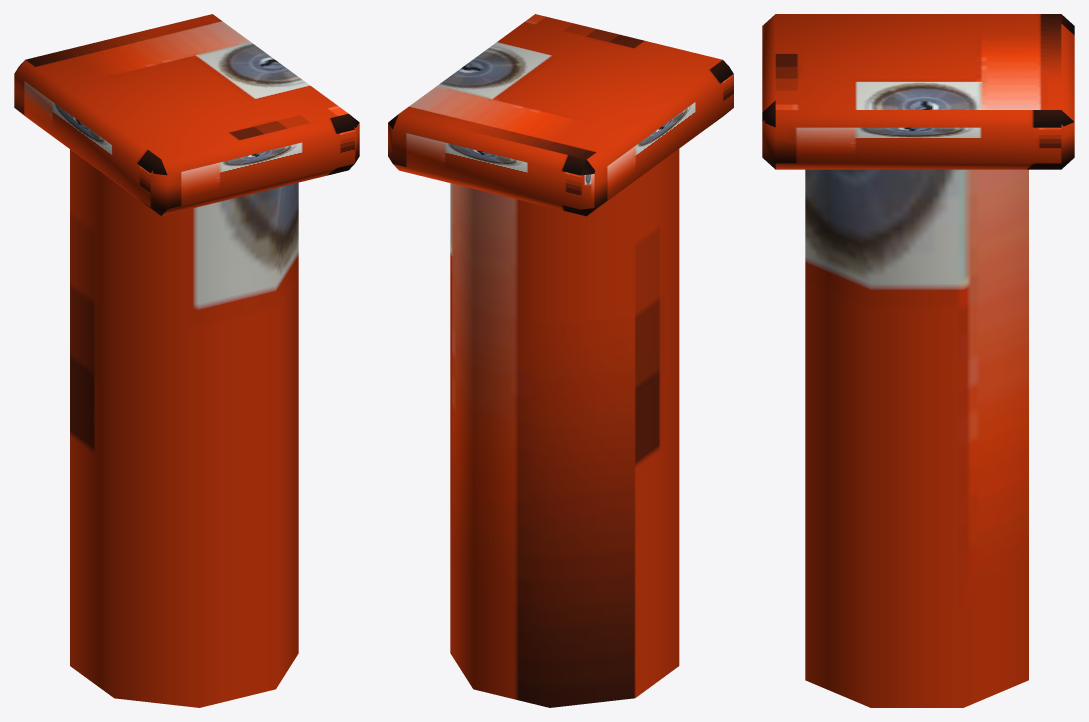
The picture shows the model from 3 angles, left to right: view 1: azimuth 30°, elevation 25°; view 2: azimuth 150°, elevation 25°; view 3: azimuth 270°, elevation 25°; orthographic projection. The views are drawn at different scales.
Visible parts, largest first — view 1: Joint_0_Object_0; view 2: Joint_0_Object_0; view 3: Joint_0_Object_0.
Part boxes in pixels (x1,y1,x2,y2): Joint_0_Object_0: [14, 14, 359, 707]; Joint_0_Object_0: [388, 14, 733, 707]; Joint_0_Object_0: [762, 14, 1074, 707].
Bounding box in the file's own units: 170 × 444 × 209.
